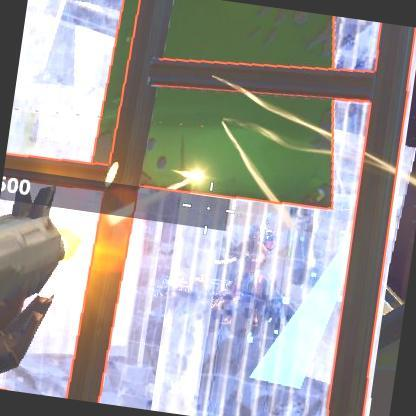person: (228, 221, 276, 308)
